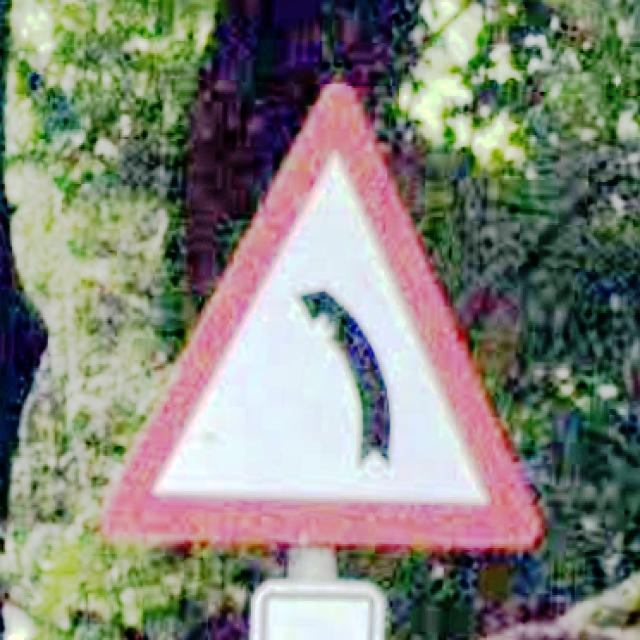leftbend: (102, 84, 542, 554)
